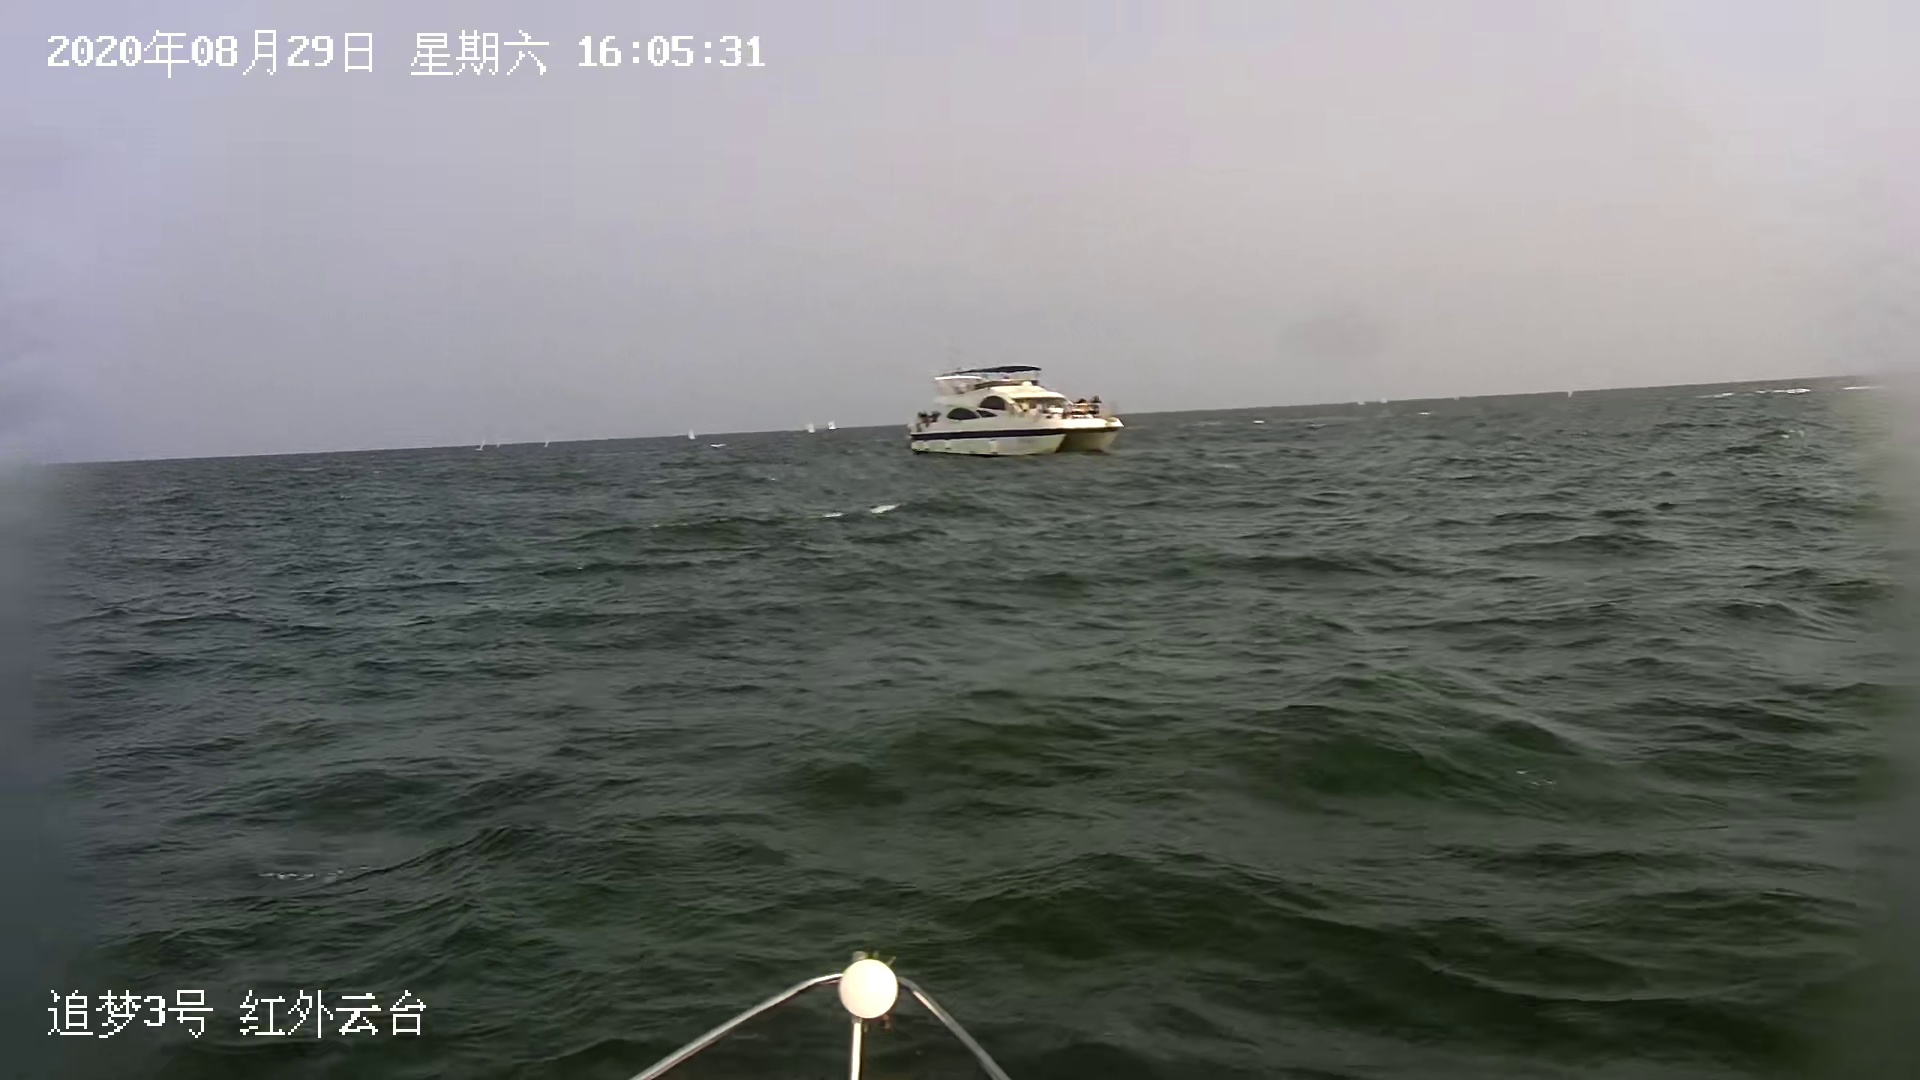barrier: (903, 364, 1126, 458), (804, 419, 815, 436), (827, 419, 836, 433), (687, 431, 699, 440)
this: (632, 949, 1025, 1079)
